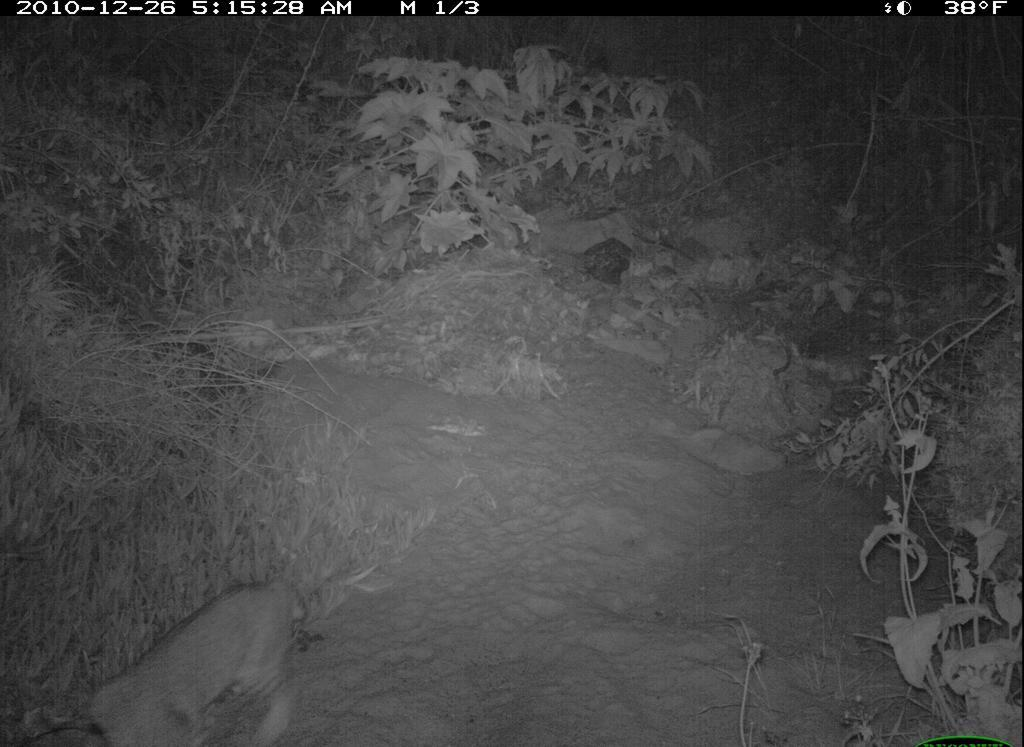bobcat: (54, 556, 338, 745)
